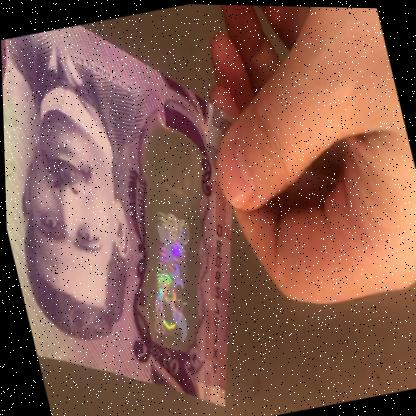50F: (109, 137, 220, 350)
